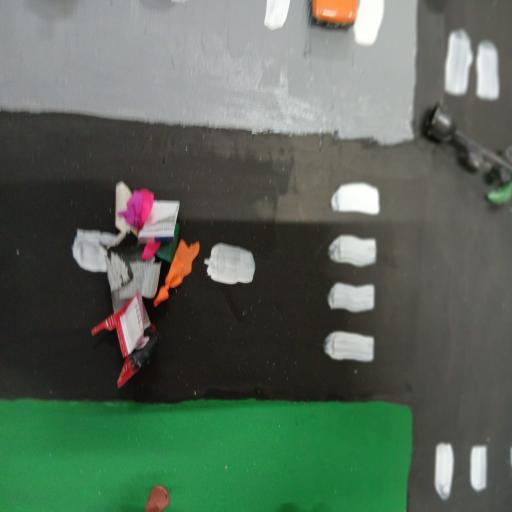fallen trees: (418, 94, 512, 216)
trash: (72, 179, 206, 395)
